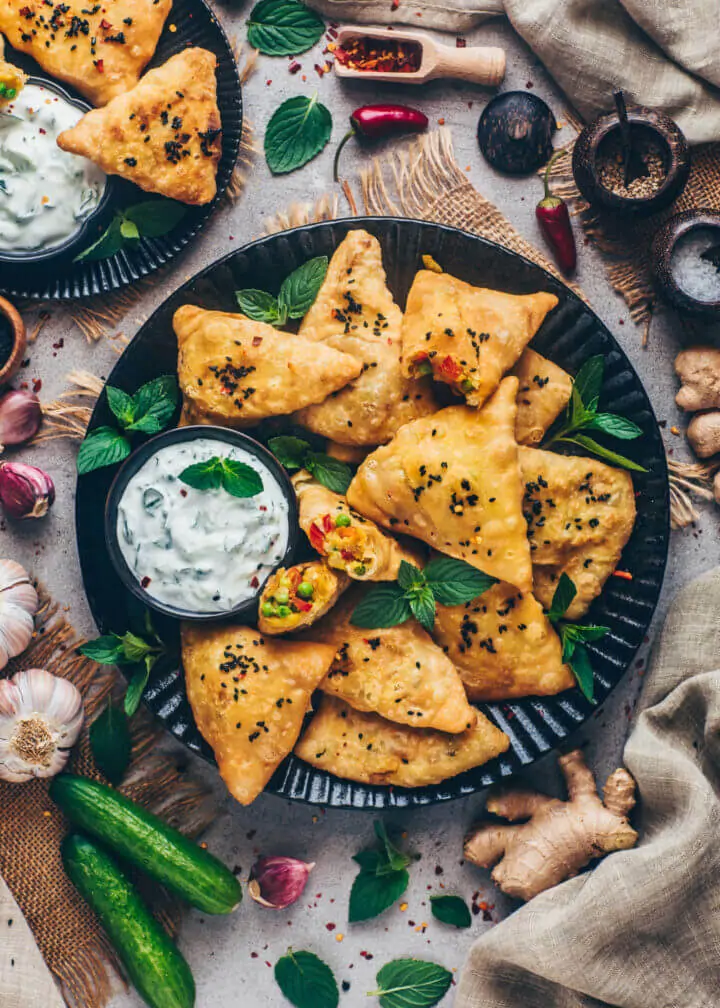samosa: (345, 374, 540, 591), (175, 633, 345, 808), (167, 301, 359, 430), (63, 52, 229, 199), (297, 684, 502, 794), (405, 260, 563, 401), (321, 228, 421, 445), (510, 455, 649, 603), (335, 611, 491, 738), (429, 588, 579, 705), (4, 0, 185, 95), (290, 470, 416, 589)
